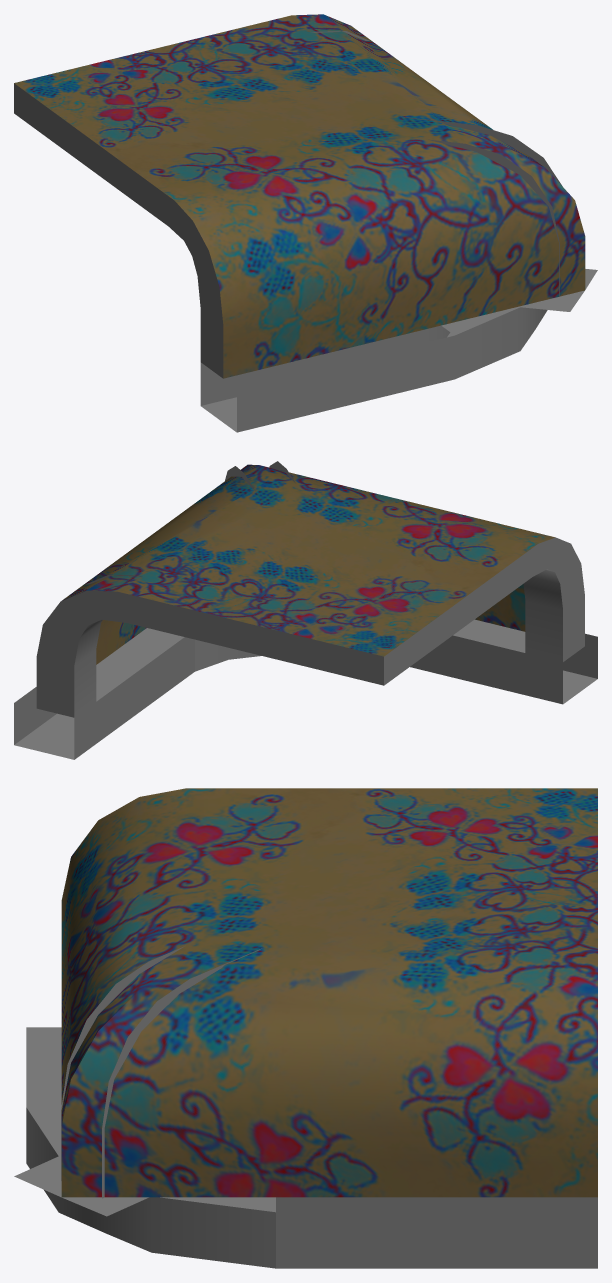
File: Ceiling_Corners.fbx
3 renders of one model, top to bottom at view 1: azimuth 30°, elevation 25°; view 2: azimuth 150°, elevation 25°; view 3: azimuth 270°, elevation 25°, orthographic. The views are drawn at different scales.
Visible parts, largest first — view 1: Ceiling_Corners; view 2: Ceiling_Corners; view 3: Ceiling_Corners.
Part boxes in pixels (x1,y1,x2,y2): Ceiling_Corners: (14, 14, 597, 432); Ceiling_Corners: (14, 461, 597, 759); Ceiling_Corners: (14, 788, 597, 1268).
Bounding box in the file's own units: 271 × 123 × 272.
